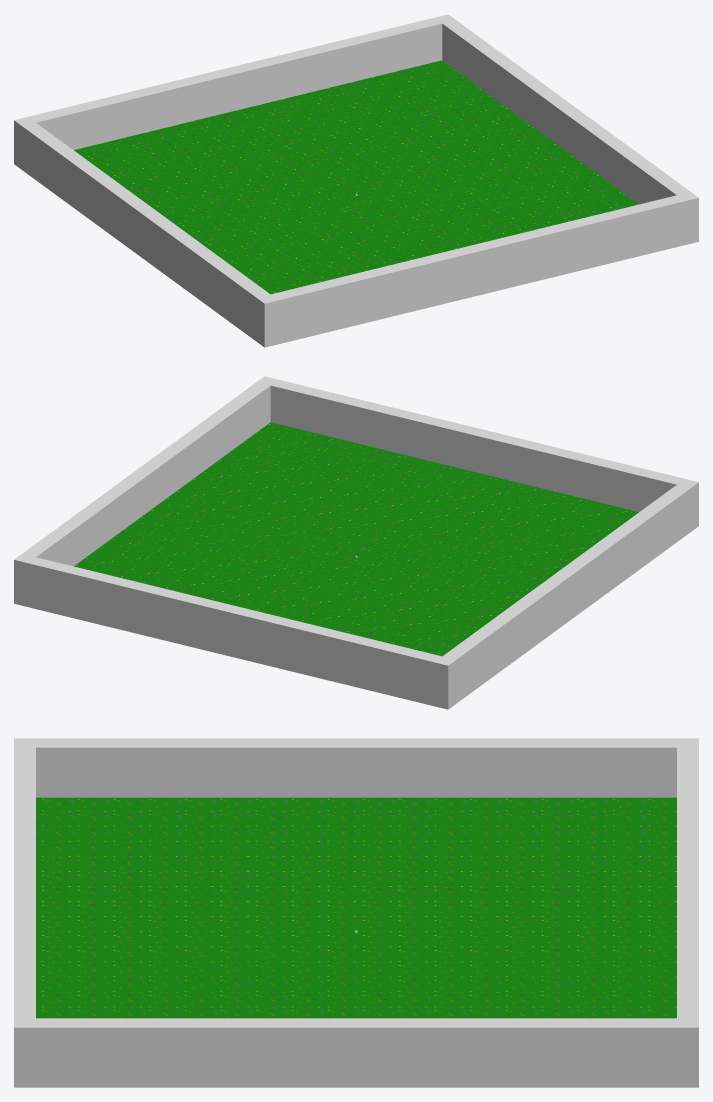
File: lawn.glb
3 renders of one model, top to bottom at view 1: azimuth 30°, elevation 25°; view 2: azimuth 150°, elevation 25°; view 3: azimuth 270°, elevation 25°, orthographic. The views are drawn at different scales.
Parts seen in each view (by area): view 1: Box, Box.001, Box.003, Box.004, Box.002; view 2: Box, Box.003, Box.001, Box.004, Box.002; view 3: Box, Box.002, Box.004, Box.001, Box.003.
Part boxes in pixels (<box>): Box: <box>74,60,638,294</box>; Box.001: <box>256,192,698,347</box>; Box.003: <box>14,14,455,169</box>; Box.004: <box>22,123,270,341</box>; Box.002: <box>442,20,690,204</box>; Box: <box>74,422,638,656</box>; Box.003: <box>14,554,456,709</box>; Box.001: <box>257,376,698,531</box>; Box.004: <box>442,485,690,703</box>; Box.002: <box>22,382,270,566</box>; Box: <box>36,797,676,1018</box>; Box.002: <box>36,1018,676,1087</box>; Box.004: <box>36,738,676,797</box>; Box.001: <box>14,738,35,1087</box>; Box.003: <box>677,738,698,1087</box>.
Size of the model in its own units: 620 by 60 by 620.
1 material, 1 textured.
